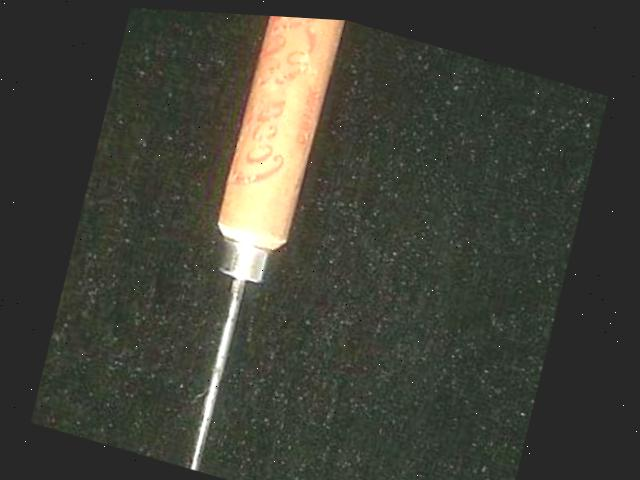ice pick: (160, 8, 343, 480)
